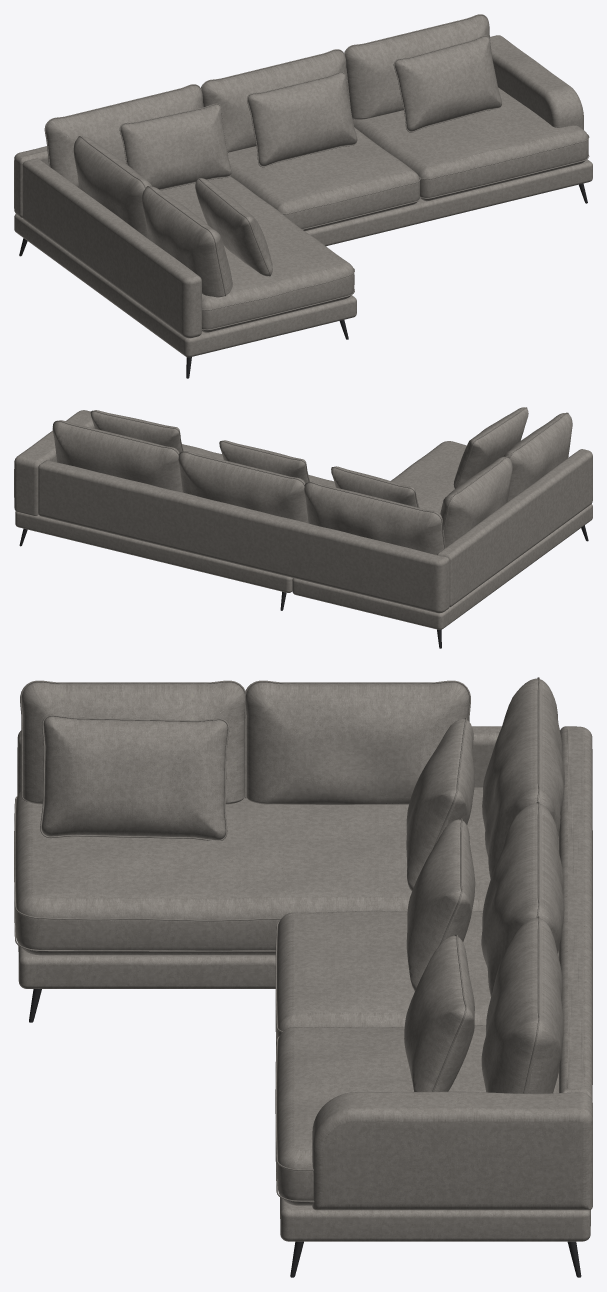
File: corner.glb
3 renders of one model, top to bottom at view 1: azimuth 30°, elevation 25°; view 2: azimuth 150°, elevation 25°; view 3: azimuth 270°, elevation 25°, orthographic. The views are drawn at different scales.
Parts seen in each view (by area): view 1: fabric (×2), pillows (×2); view 2: fabric (×2), pillows (×2); view 3: fabric (×2), pillows (×2), legs.
Part boxes in pixels (bbox=[...]): fabric (×2): bbox=[14, 14, 592, 357]; pillows (×2): bbox=[119, 35, 502, 276]; fabric (×2): bbox=[14, 410, 592, 629]; pillows (×2): bbox=[90, 407, 528, 507]; fabric (×2): bbox=[14, 677, 592, 1241]; pillows (×2): bbox=[40, 714, 475, 1091]; legs: bbox=[29, 989, 581, 1277].
Bounding box in the file's own units: 3.19 × 0.8806 × 1.99.
Materials: 3 (2 with a texture image).
